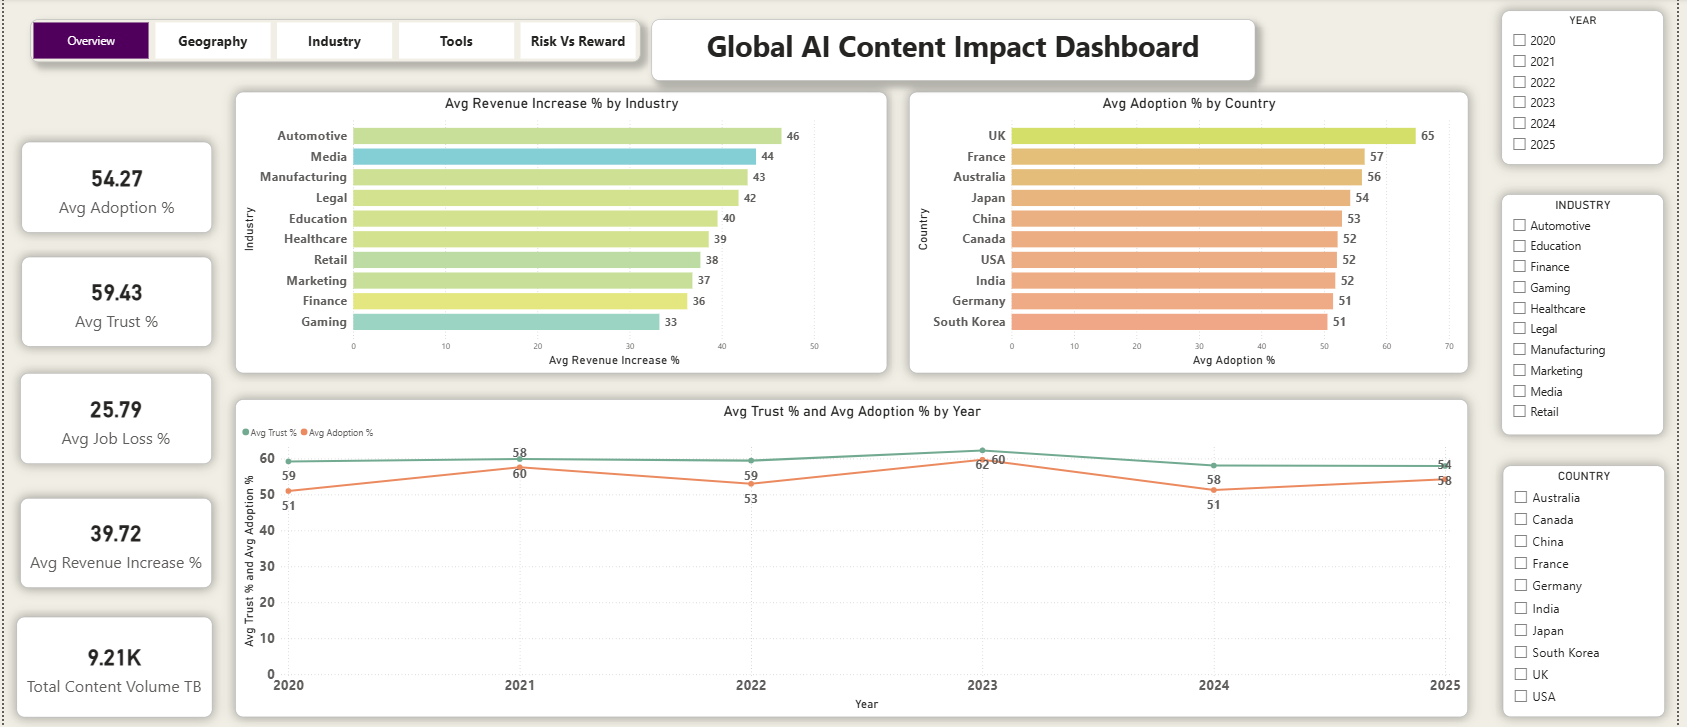

This screenshot's page, from the dashboard's own definition file:
{"tool":"powerbi","page":{"name":"Overview","canvas":[2500,1100],"ordinal":0},"visuals":[{"type":"slicer","title":"YEAR","fields":{"Values":["AI_Content_Impact_Cleaned.Year"]},"box":[2238,18,242,230],"z":0},{"type":"card","fields":{"Values":["Measures Table.Avg Adoption %"]},"box":[26,214.6,284.7,136.3],"z":0,"group":"g1"},{"type":"card","fields":{"Values":["Measures Table.Avg Trust %"]},"box":[26,387,284.7,134.3],"z":1000,"group":"g1"},{"type":"slicer","title":"COUNTRY","fields":{"Values":["AI_Content_Impact_Cleaned.Country"]},"box":[2240,698,242,376],"z":1000},{"type":"slicer","title":"INDUSTRY","fields":{"Values":["AI_Content_Impact_Cleaned.Industry"]},"box":[2238,294,242,360],"z":2000},{"type":"card","fields":{"Values":["Measures Table.Avg Job Loss %"]},"box":[24,561.5,286.7,136.3],"z":2000,"group":"g1"},{"type":"group","id":"g1","title":"Group 1","box":[18,140.4,2169.6,934.4],"z":3000},{"type":"card","fields":{"Values":["Measures Table.Avg Revenue Increase %"]},"box":[24,748,286.7,134.3],"z":3000,"group":"g1"},{"type":"bookmarkNavigator","box":[40,32,912,64],"z":4000},{"type":"card","fields":{"Values":["Measures Table.Total Content Volume TB"]},"box":[18,924.4,292.8,150.4],"z":4000,"group":"g1"},{"type":"lineChart","fields":{"Y":["Measures Table.Avg Trust %","Measures Table.Avg Adoption %"],"Category":["AI_Content_Impact_Cleaned.Year"]},"box":[344.8,599.6,1842.7,475.2],"z":5000,"group":"g1"},{"type":"clusteredBarChart","fields":{"Y":["Measures Table.Avg Adoption %"],"Category":["AI_Content_Impact_Cleaned.Country"]},"box":[1351.4,140.4,836.1,421.1],"z":6000,"group":"g1"},{"type":"clusteredBarChart","fields":{"Category":["AI_Content_Impact_Cleaned.Industry"],"Y":["Measures Table.Avg Revenue Increase %"]},"box":[344.8,140.4,974.5,421.1],"z":7000,"group":"g1"},{"type":"textbox","box":[968,32,902,92],"z":9000}]}

Visuals, with their boxes in screenshot pixels (x1, y1, x2, y2), scaled from the page's 2500x1100 canvas onto the 1687x727 screenshot:
"YEAR" slicer: box(1510, 12, 1674, 164)
card - Measures Table.Avg Adoption %: box(18, 142, 210, 232)
card - Measures Table.Avg Trust %: box(18, 256, 210, 345)
"COUNTRY" slicer: box(1512, 461, 1675, 710)
"INDUSTRY" slicer: box(1510, 194, 1674, 432)
card - Measures Table.Avg Job Loss %: box(16, 371, 210, 461)
"Group 1" group: box(12, 93, 1476, 710)
card - Measures Table.Avg Revenue Increase %: box(16, 494, 210, 583)
bookmarkNavigator: box(27, 21, 642, 63)
card - Measures Table.Total Content Volume TB: box(12, 611, 210, 710)
lineChart - Measures Table.Avg Trust % x Measures Table.Avg Adoption %: box(233, 396, 1476, 710)
clusteredBarChart - Measures Table.Avg Adoption % x AI_Content_Impact_Cleaned.Country: box(912, 93, 1476, 371)
clusteredBarChart - AI_Content_Impact_Cleaned.Industry x Measures Table.Avg Revenue Increase %: box(233, 93, 890, 371)
textbox: box(653, 21, 1262, 82)
